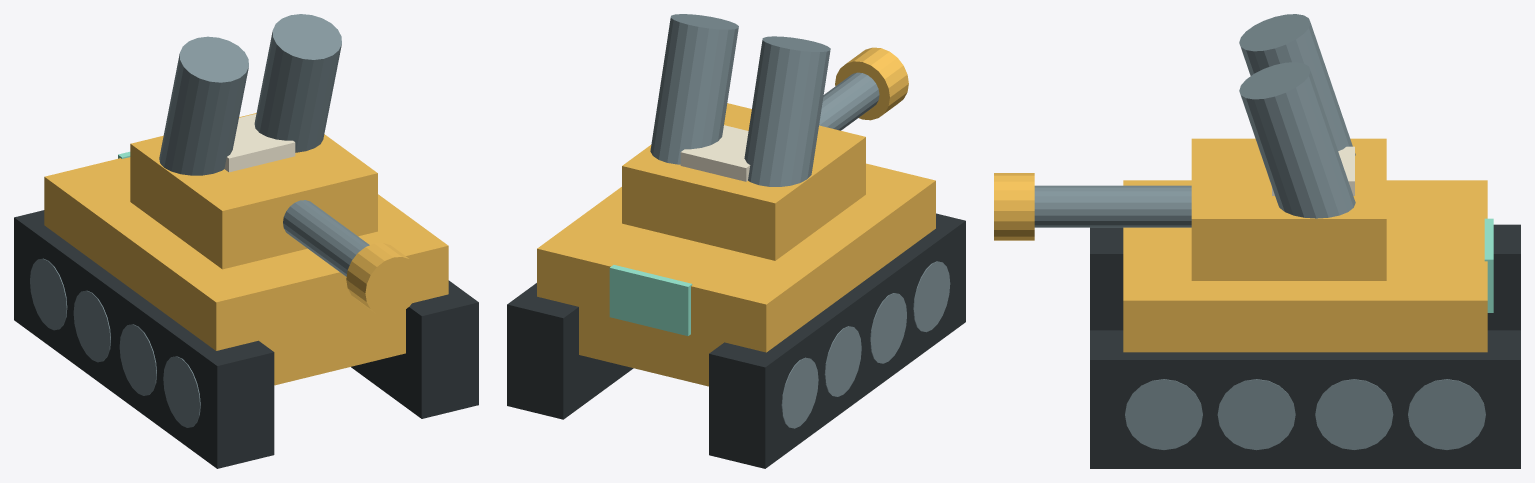
Rendered from mortar.glb.
The picture shows the model from 3 angles, left to right: view 1: azimuth 30°, elevation 25°; view 2: azimuth 150°, elevation 25°; view 3: azimuth 270°, elevation 25°; orthographic projection. The views are drawn at different scales.
Visible parts, largest first — view 1: Armour.002, Track.004, Turret shell.002, Track.005, Mortar tube, Mortar tube.001, Muzzle.003, Barrel.002, Hatch.002, Track wheel.016, Track wheel.017, Track wheel.019 (+1 smaller); view 2: Armour.002, Track.004, Turret shell.002, Mortar tube, Track.005, Mortar tube.001, Rear core.002, Muzzle.003, Hatch.002, Barrel.002, Track wheel.016, Track wheel.018 (+2 smaller); view 3: Armour.002, Track.005, Turret shell.002, Mortar tube.001, Barrel.002, Track.004, Mortar tube, Track wheel.021, Track wheel.023, Track wheel.020, Track wheel.022, Muzzle.003 (+1 smaller).
Boxes of the visible parts, x1=… form: Armour.002: x1=44, y1=157, x2=448, y2=385; Track.004: x1=14, y1=210, x2=274, y2=468; Turret shell.002: x1=130, y1=113, x2=377, y2=269; Track.005: x1=351, y1=280, x2=478, y2=418; Mortar tube: x1=159, y1=36, x2=248, y2=175; Mortar tube.001: x1=254, y1=14, x2=341, y2=152; Muzzle.003: x1=346, y1=243, x2=420, y2=316; Barrel.002: x1=283, y1=200, x2=369, y2=276; Hatch.002: x1=224, y1=114, x2=295, y2=172; Track wheel.016: x1=163, y1=356, x2=200, y2=427; Track wheel.017: x1=119, y1=324, x2=156, y2=395; Track wheel.019: x1=30, y1=258, x2=67, y2=330; Armour.002: x1=537, y1=163, x2=935, y2=386; Track.004: x1=709, y1=213, x2=965, y2=468; Turret shell.002: x1=622, y1=103, x2=865, y2=260; Mortar tube: x1=744, y1=36, x2=830, y2=186; Track.005: x1=507, y1=283, x2=633, y2=419; Mortar tube.001: x1=650, y1=14, x2=738, y2=164; Rear core.002: x1=609, y1=265, x2=692, y2=335; Muzzle.003: x1=835, y1=47, x2=908, y2=120; Hatch.002: x1=680, y1=125, x2=750, y2=181; Barrel.002: x1=819, y1=72, x2=879, y2=130; Track wheel.016: x1=913, y1=261, x2=950, y2=332; Track wheel.018: x1=824, y1=326, x2=861, y2=396; Armour.002: x1=1123, y1=180, x2=1487, y2=352; Track.005: x1=1090, y1=330, x2=1520, y2=468; Turret shell.002: x1=1191, y1=138, x2=1386, y2=280; Mortar tube.001: x1=1239, y1=62, x2=1355, y2=218; Barrel.002: x1=1034, y1=185, x2=1191, y2=227; Track.004: x1=1090, y1=224, x2=1520, y2=330; Mortar tube: x1=1239, y1=14, x2=1355, y2=155; Track wheel.021: x1=1217, y1=379, x2=1295, y2=450; Track wheel.023: x1=1408, y1=379, x2=1485, y2=449; Track wheel.020: x1=1125, y1=379, x2=1202, y2=449; Track wheel.022: x1=1315, y1=379, x2=1393, y2=449; Muzzle.003: x1=994, y1=173, x2=1034, y2=240.
Size of the model in its own units: 1.98 by 2.41 by 3.24.
